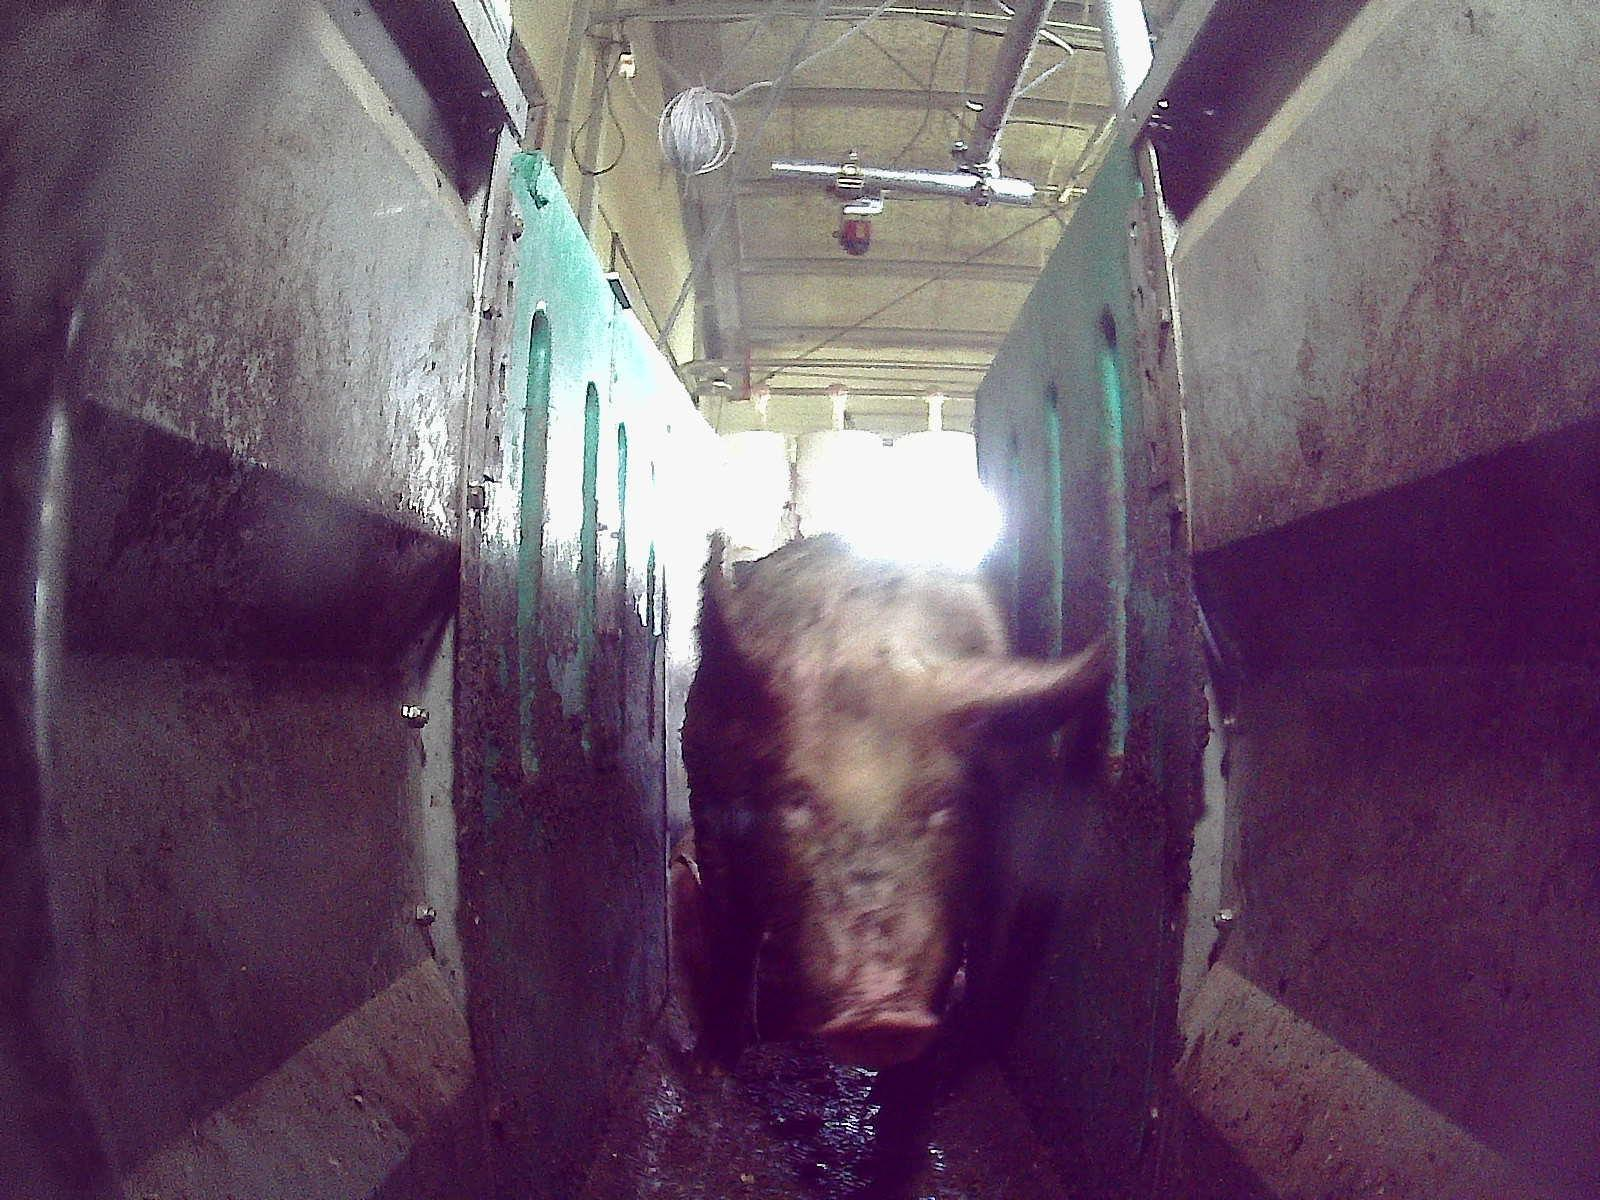Face: (732, 686, 975, 1060)
